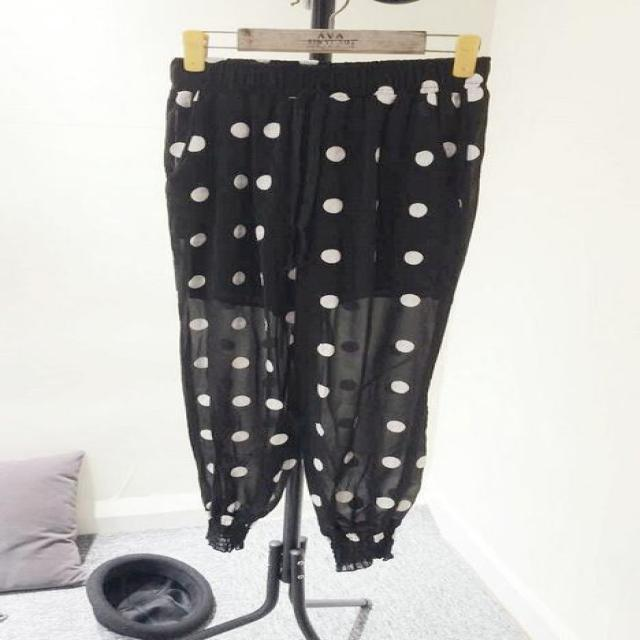trousers: (172, 58, 488, 569)
